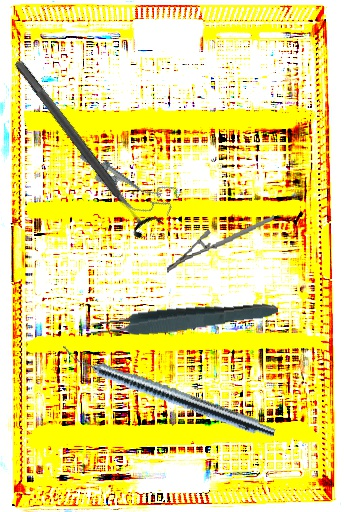Fixation Ring: (4, 51, 164, 242)
Handpiece: (57, 343, 279, 442)
Needle Holder: (161, 215, 280, 273)
Speculum: (68, 143, 183, 226)
Tissue Forceps: (84, 295, 279, 343)
